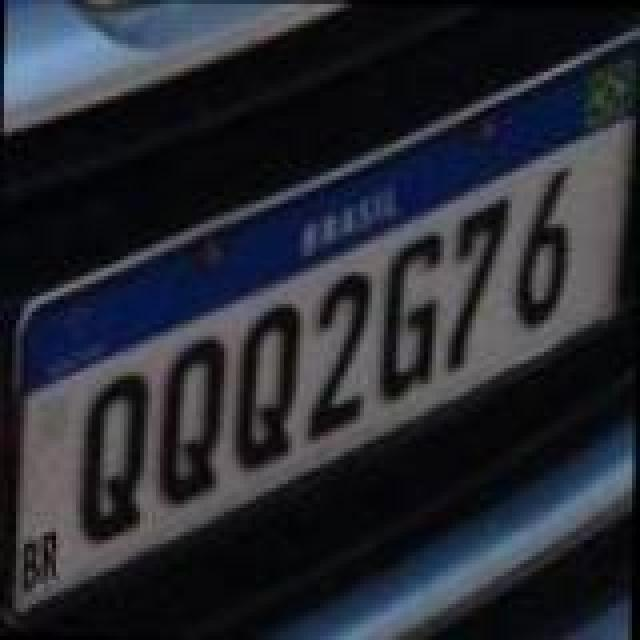2: (308, 268, 376, 440)
6: (514, 166, 574, 330)
7: (444, 194, 512, 374)
G: (380, 230, 448, 402)
Q: (78, 372, 154, 548), (160, 338, 232, 510), (232, 300, 304, 472)
